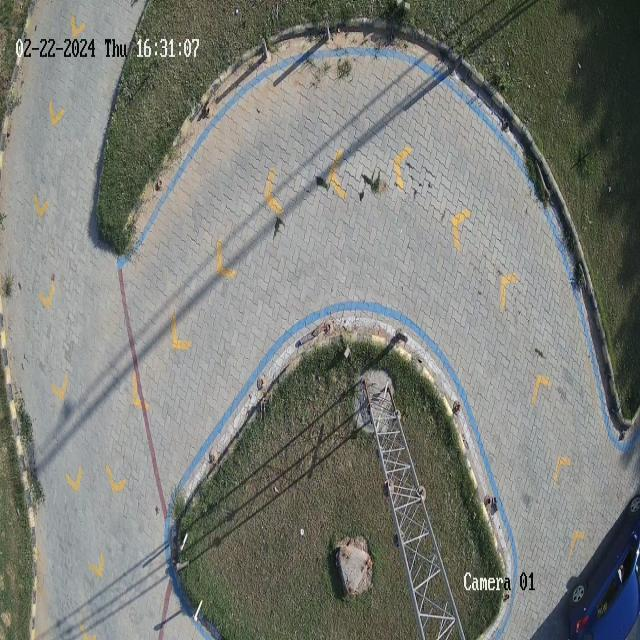car: (569, 494, 640, 640)
